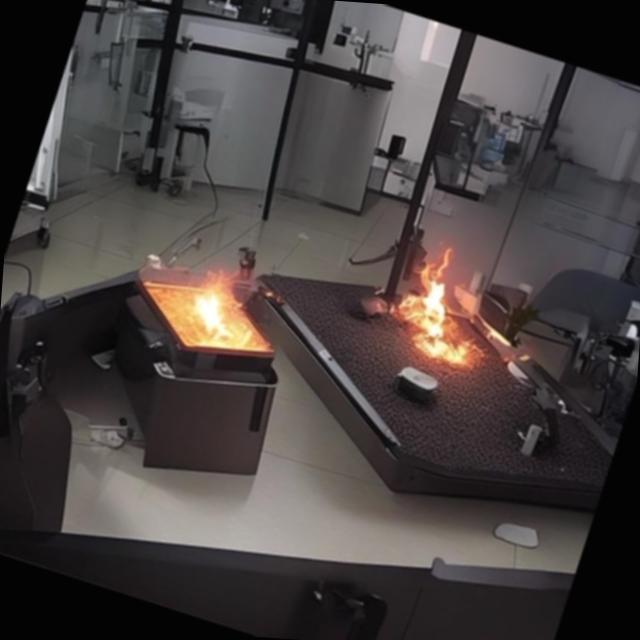fire: (130, 228, 288, 378), (356, 243, 499, 398)
